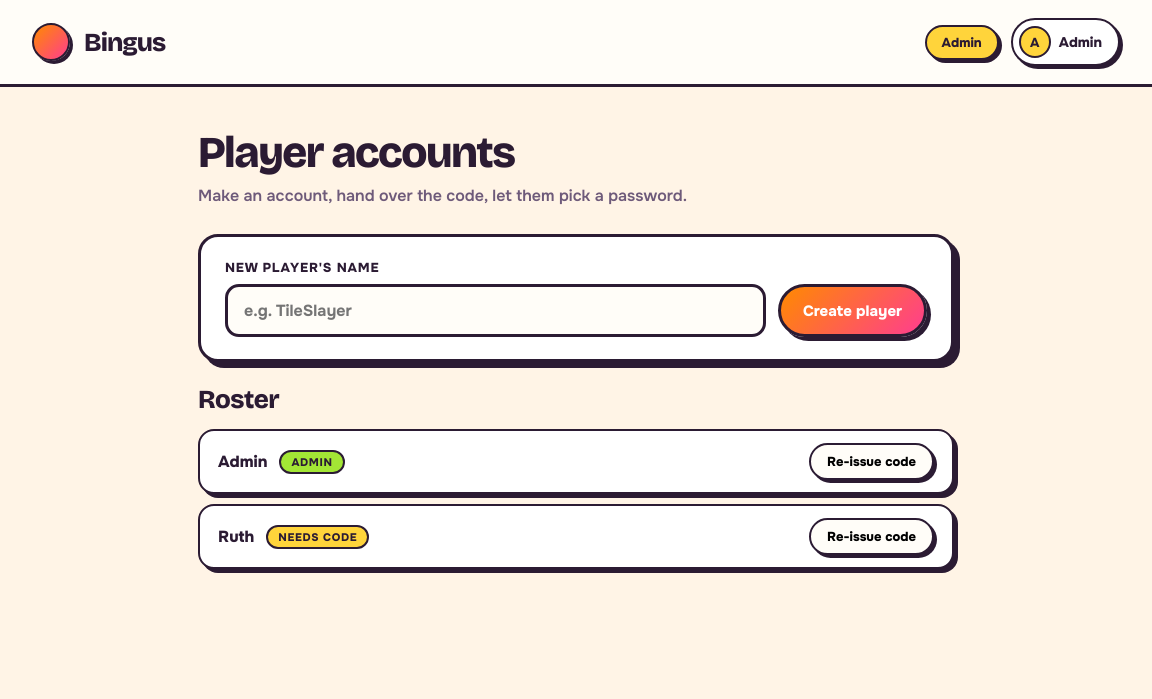
AdminUsersPage › re-issues a code behind a confirm
Click the button "Re-issue code" in the row of "Ruth" at (872, 536), box [809,518,934,555]
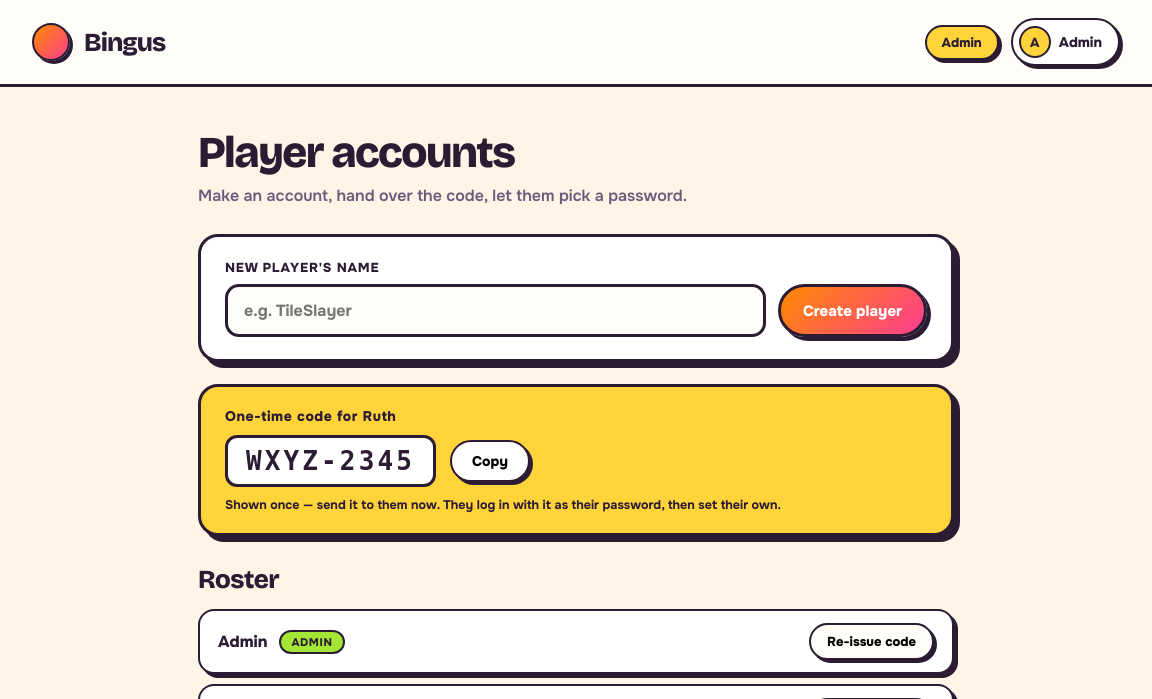
Expected: the text "WXYZ-2345" is shown, [225,435,436,487]
Expected: the text "One-time code for Ruth" is shown, [225,407,396,425]
